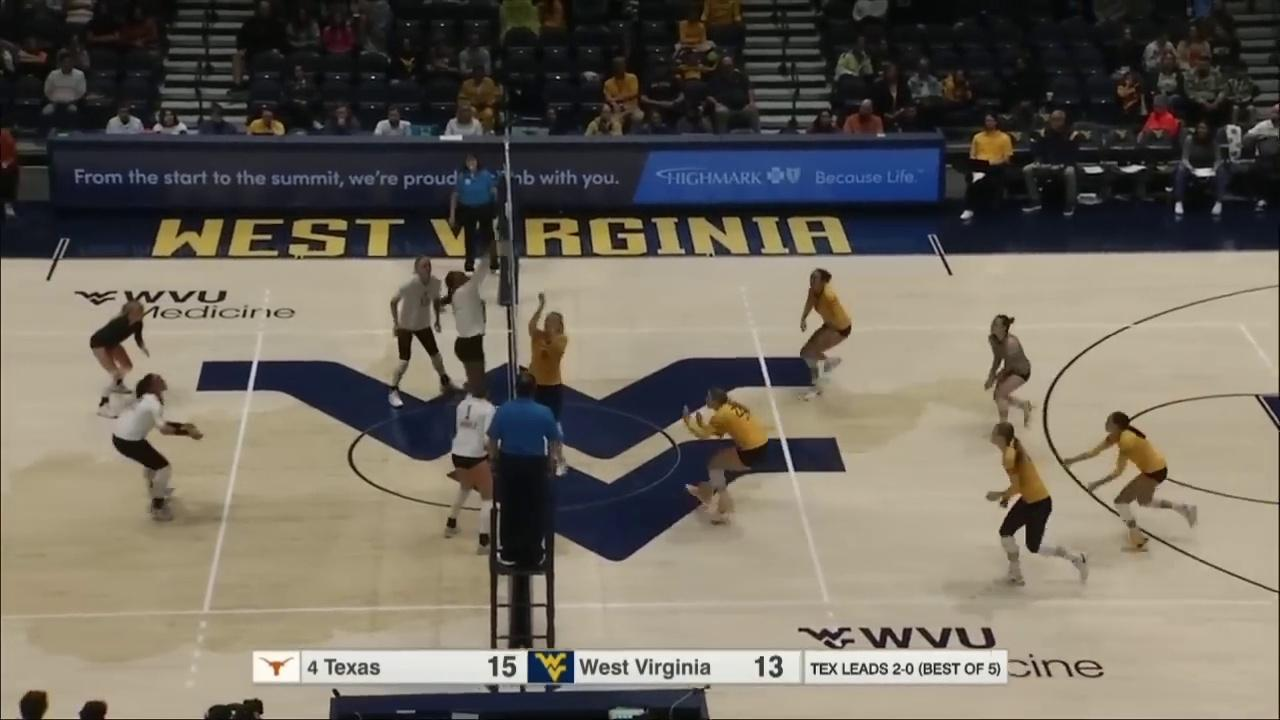player: (1065, 411, 1198, 553), (986, 422, 1092, 589), (108, 374, 206, 522), (683, 384, 771, 526), (443, 370, 502, 557), (389, 255, 460, 408), (445, 252, 499, 449), (523, 293, 575, 478), (89, 298, 153, 418), (800, 271, 852, 404), (982, 313, 1035, 439)
refree: (488, 371, 564, 575), (451, 151, 503, 277)
